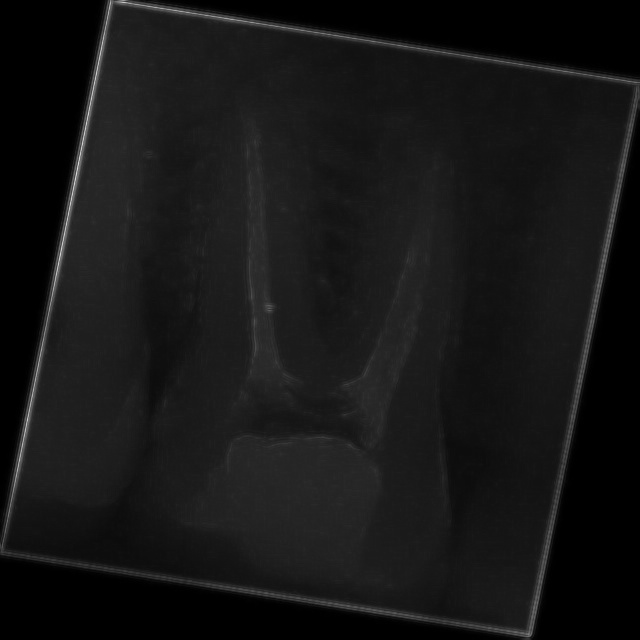Class 1- complete endodontic treatment: (61, 31, 566, 610)
